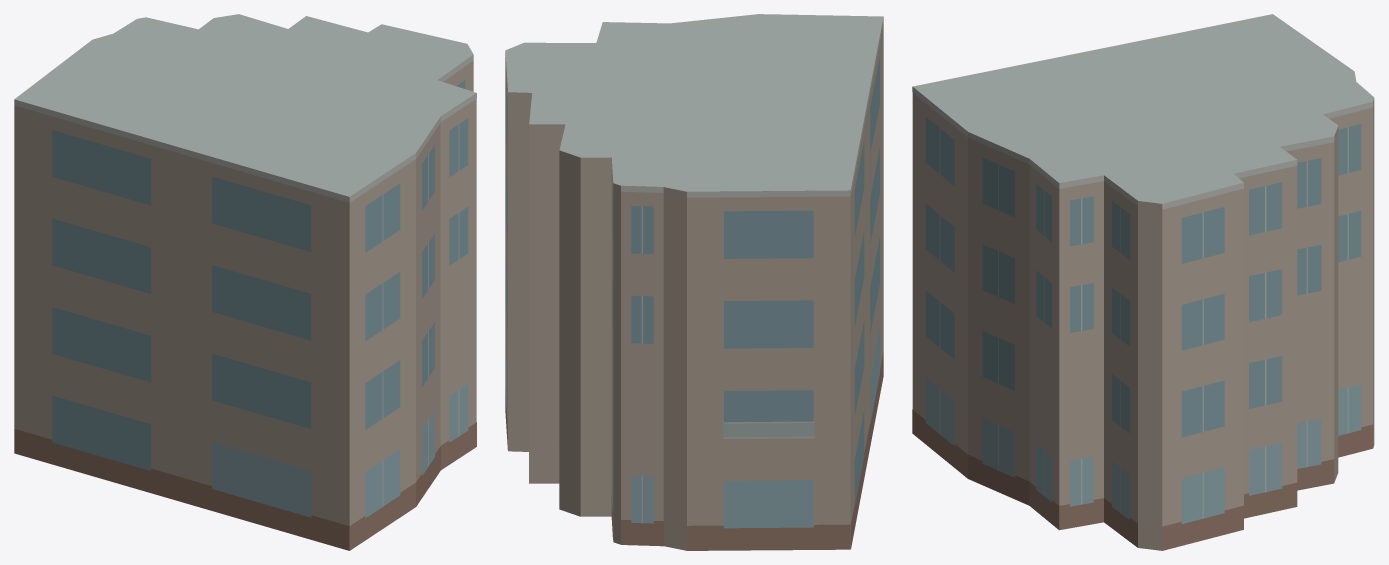
Rendered from survey-upis-32923105.glb.
3 views of the same model, side by side, from view 1: azimuth 30°, elevation 25°; view 2: azimuth 150°, elevation 25°; view 3: azimuth 270°, elevation 25° (orthographic). The views are drawn at different scales.
Visible parts, largest first — view 1: survey-upis-32923105.tmp; view 2: survey-upis-32923105.tmp; view 3: survey-upis-32923105.tmp.
Boxes of the visible parts, box(x1,y1,x2,y2) form: survey-upis-32923105.tmp: box(14, 14, 476, 550); survey-upis-32923105.tmp: box(505, 14, 883, 550); survey-upis-32923105.tmp: box(912, 14, 1374, 550).
Size of the model in its own units: 17.02 by 14.5 by 17.5.
